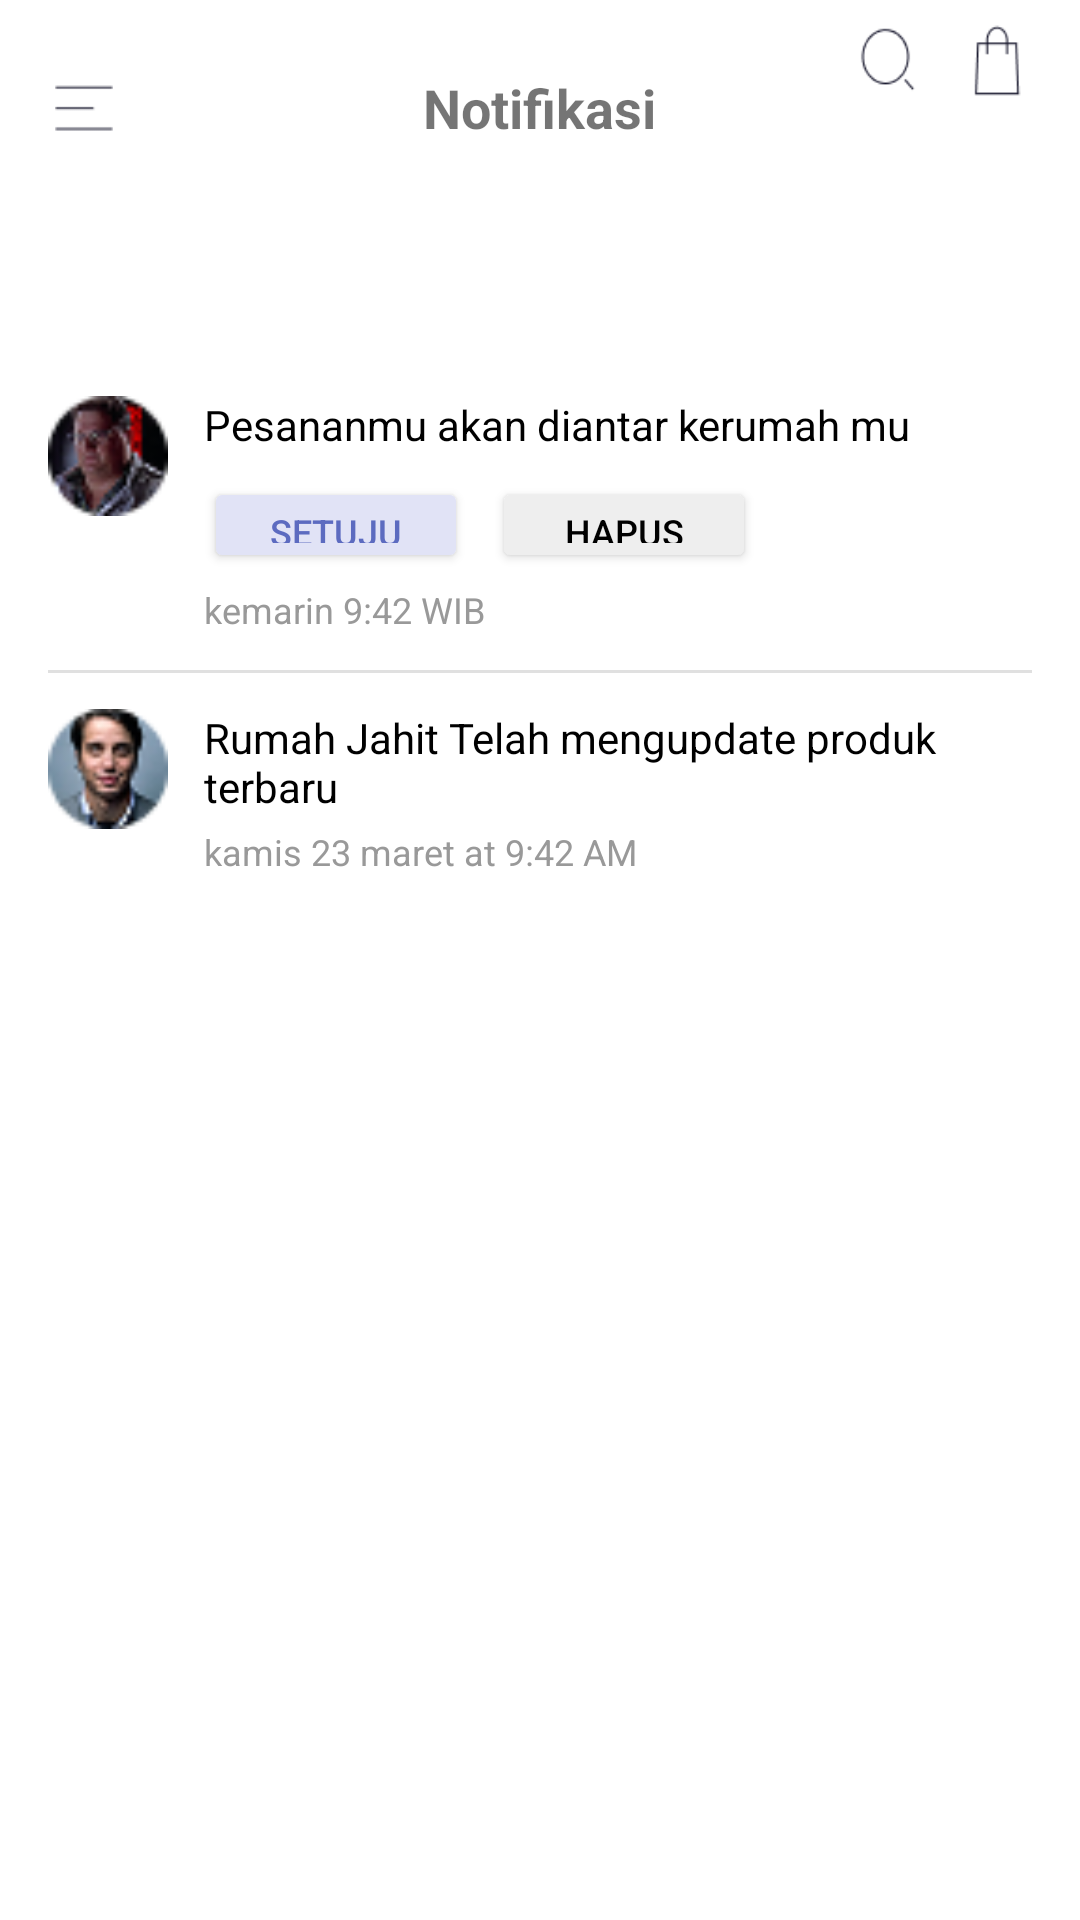

Named icons in this screenshot (1080px×1920px) and their centers, [x,y]:
cart: [997,61]
menu: [84,108]
profile: [108,456], [108,769]
search: [887,59]
